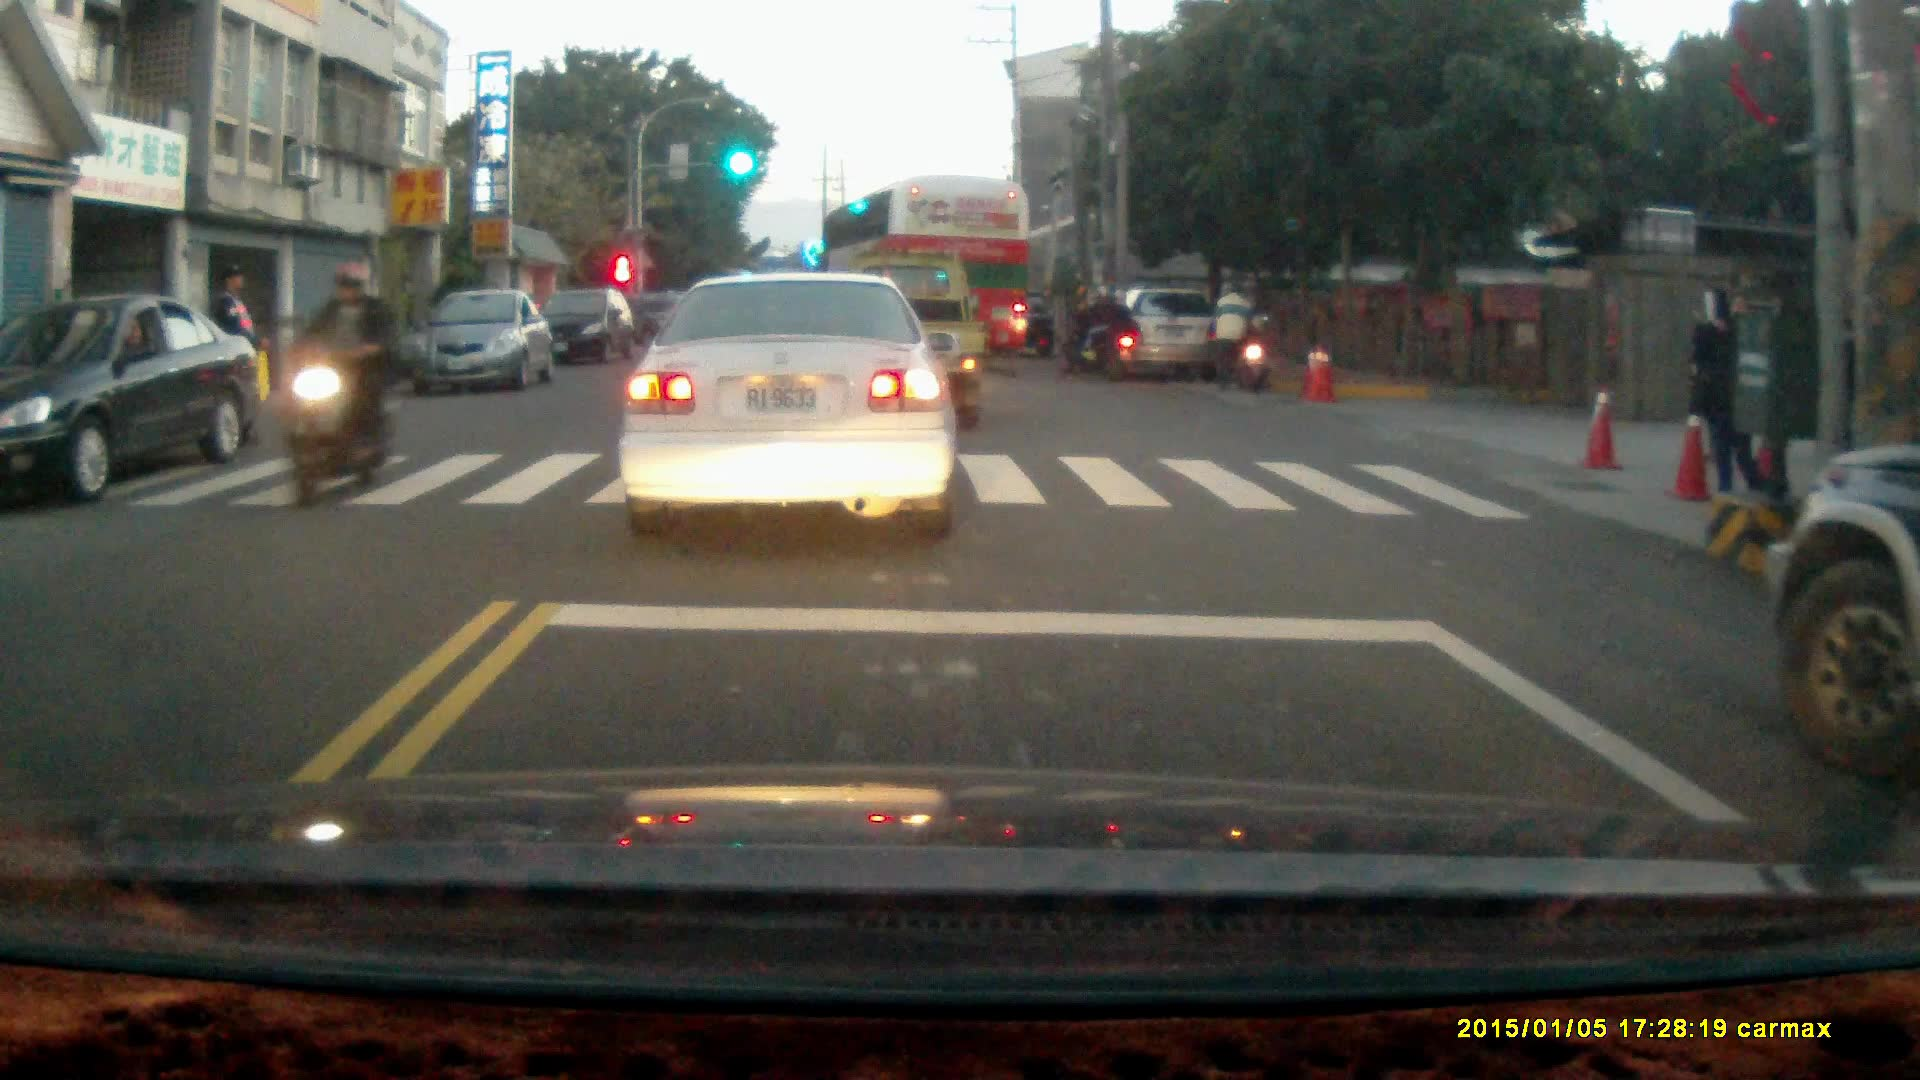pedestrian: (1703, 293, 1767, 505), (212, 265, 265, 443), (1687, 281, 1739, 457), (1214, 276, 1255, 387)
rider: (267, 257, 394, 511), (1062, 282, 1130, 383)
vehicle: (615, 268, 960, 543), (2, 294, 261, 506), (1758, 447, 1920, 783), (818, 174, 1037, 380), (400, 289, 553, 401), (1098, 287, 1220, 385), (535, 289, 636, 370)
